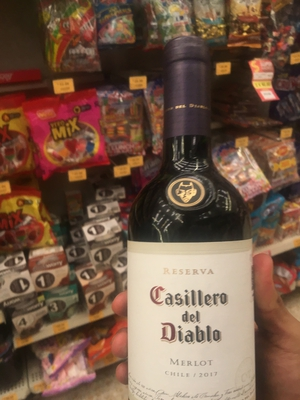casillero del diablo merlot: (123, 39, 256, 400)
